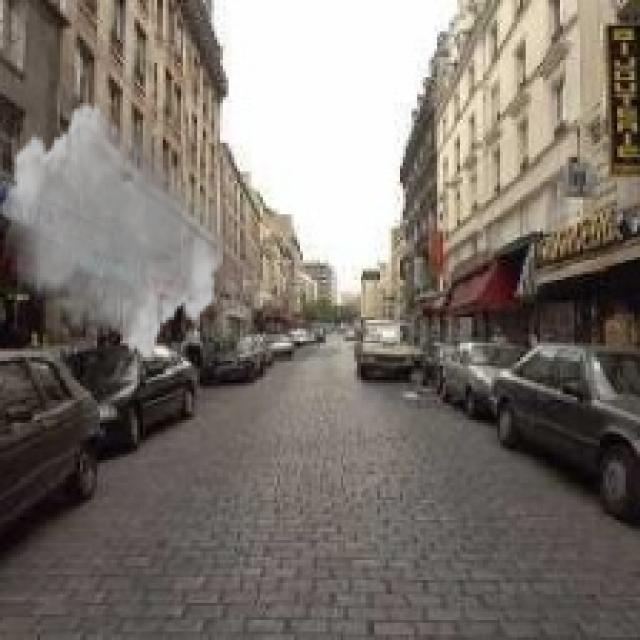smoke: (0, 100, 229, 357)
